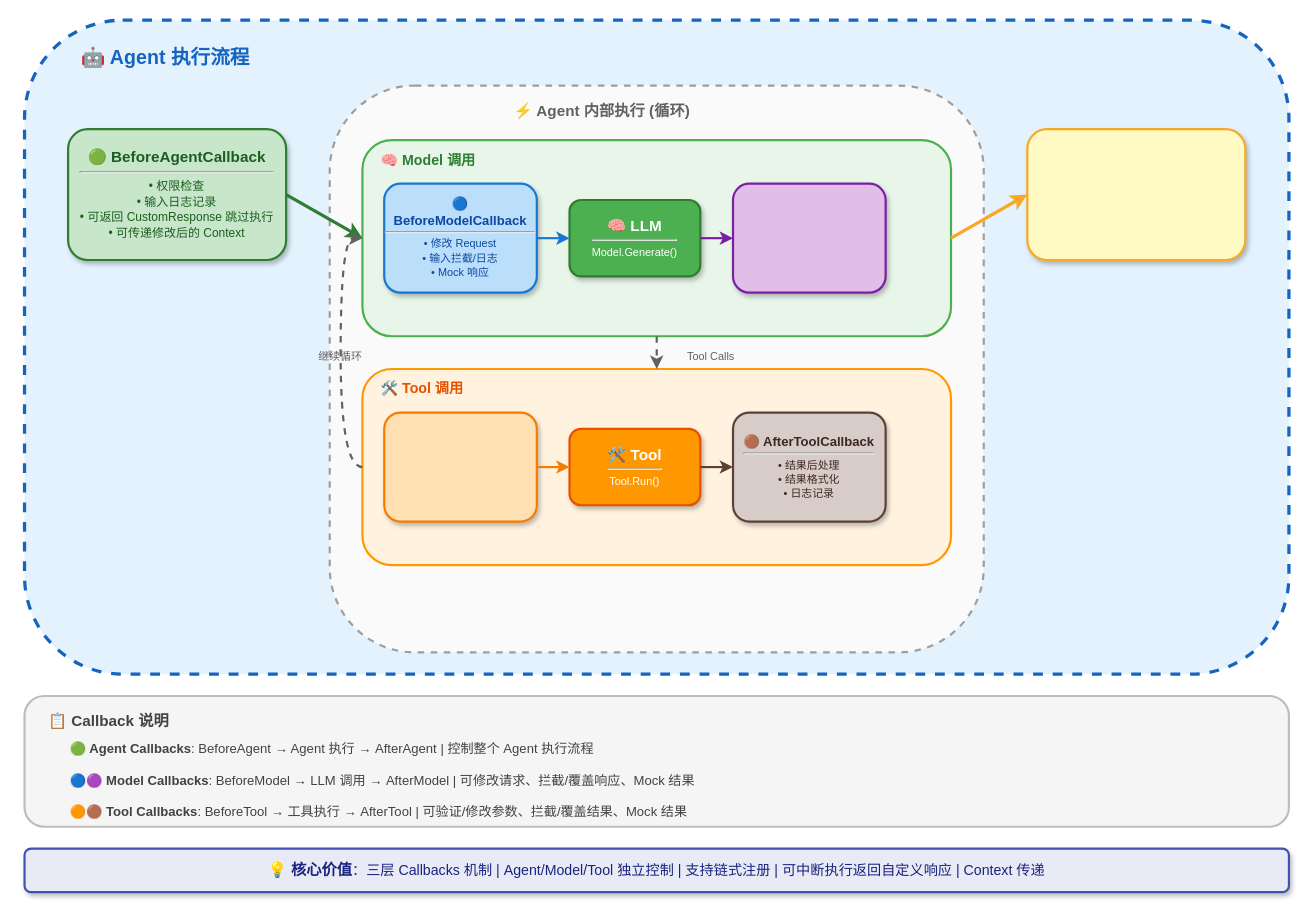
Some shapes in this 1315 by 920 pixel diagram are drawn without their labels. Each missing label, with the centre of its shape:
"🟠 BeforeToolCallback • 参数验证/修改 • 权限检查 • Mock 结果" belongs at (461,468).
"🟡 AfterAgentCallback • 输出日志记录 • 错误处理 • 可返回 CustomResponse 覆盖结果 • 可传递修改后的 Context" belongs at (1136,195).
"🟣 AfterModelCallback • 输出拦截/日志 • 内容审核 • 覆盖响应" belongs at (810,239).
